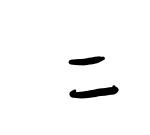eqv: (67, 54, 125, 101)
